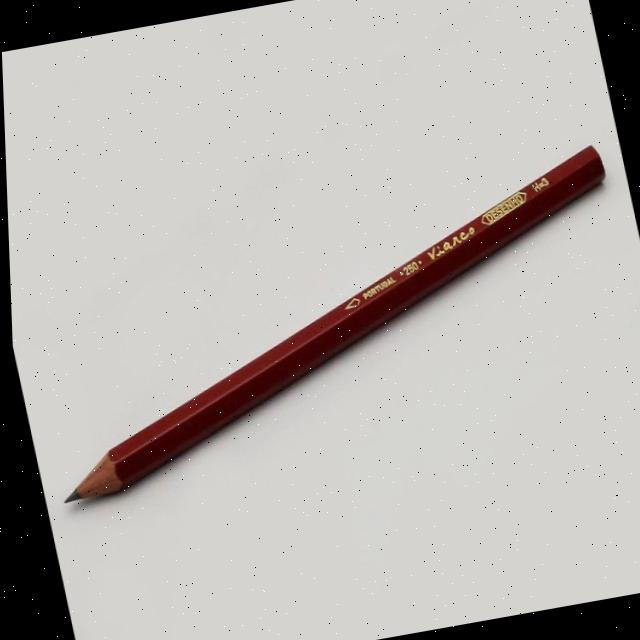pencil: (4, 137, 640, 515)
